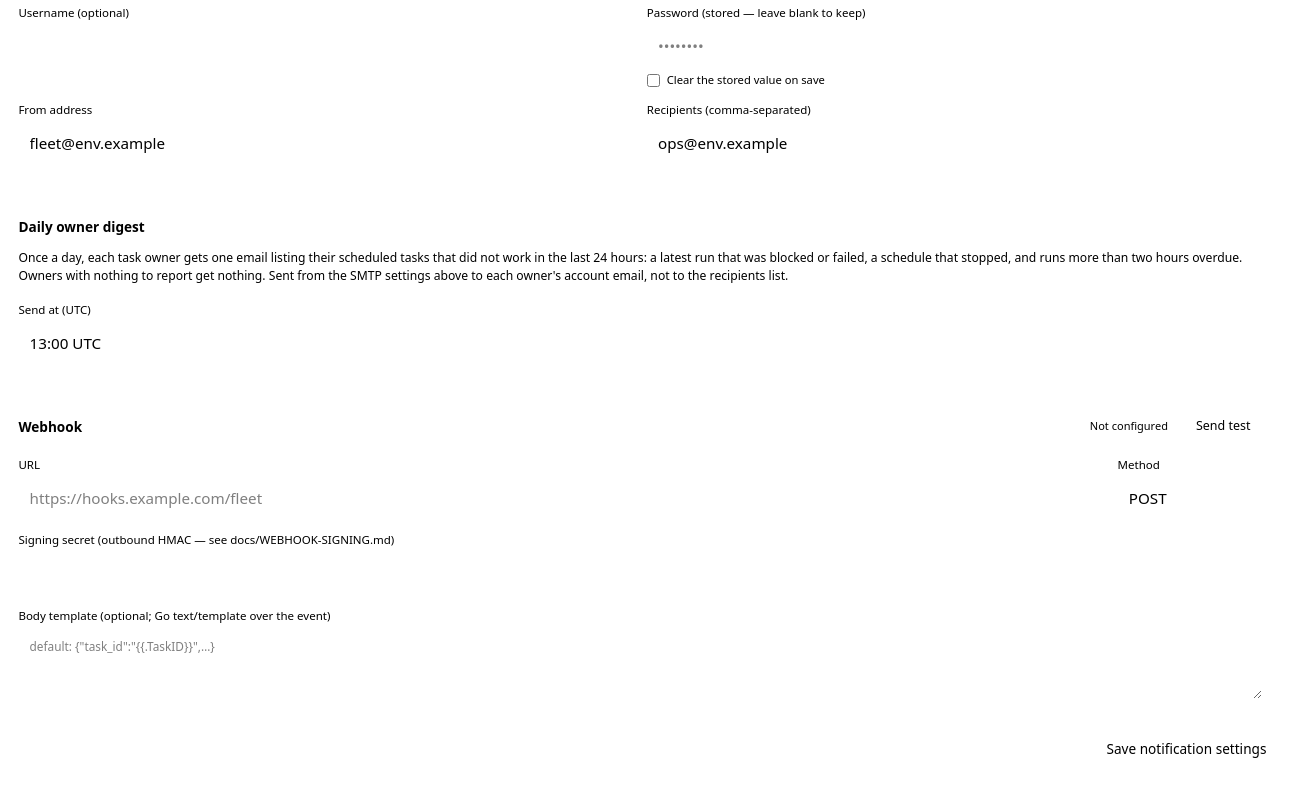
Test: NotificationsAdminPage › disables Send test while the form is dirty and says why, re-enabling after save
(page scrolled)
Type "https://hooks.example.com/x" into the field with test id "notify-webhook-url" at (561, 498), box [18,478,1104,519]
(page scrolled)
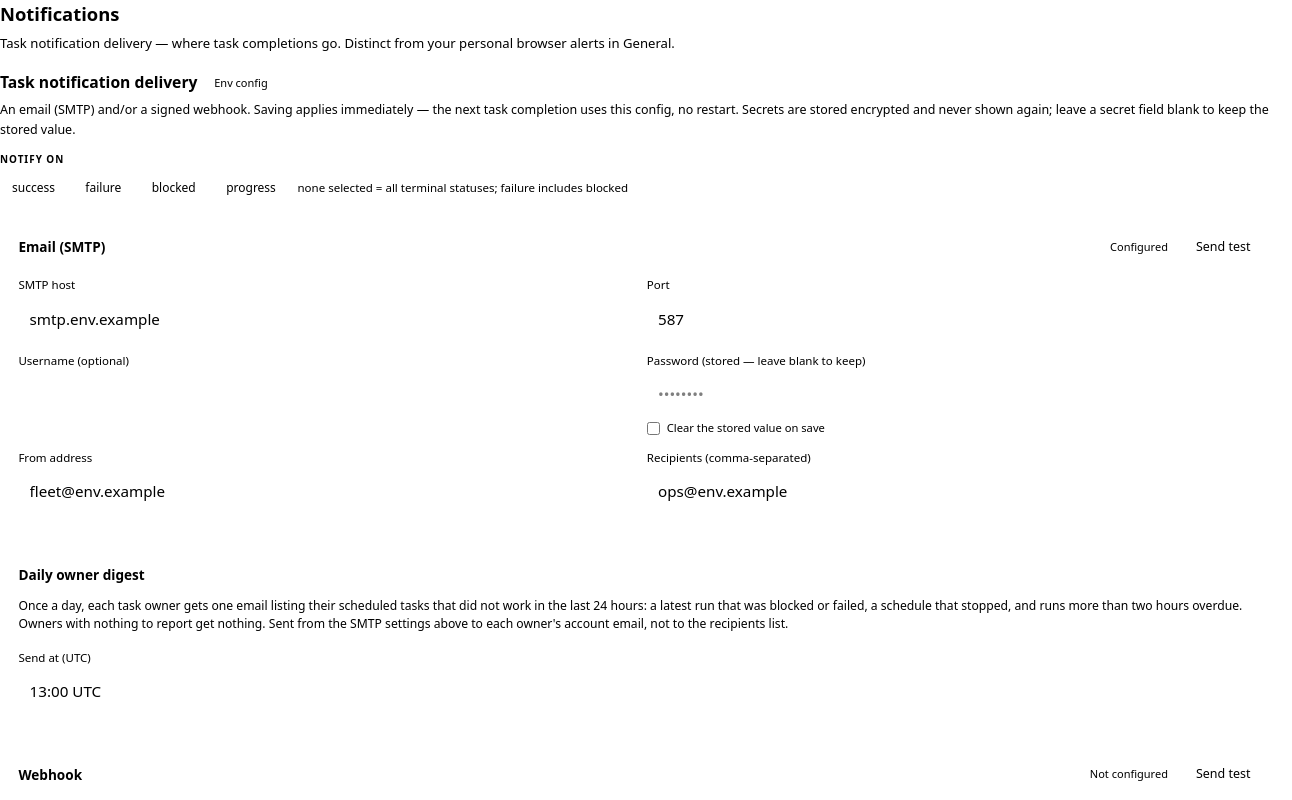
Result: the button with test id "notify-test-email" is disabled
Result: the button with test id "notify-test-webhook" is disabled at [1185,761,1262,789]
Click the button with test id "notify-test-email" at (1223, 247), box [1185,233,1262,262]
(page scrolled)
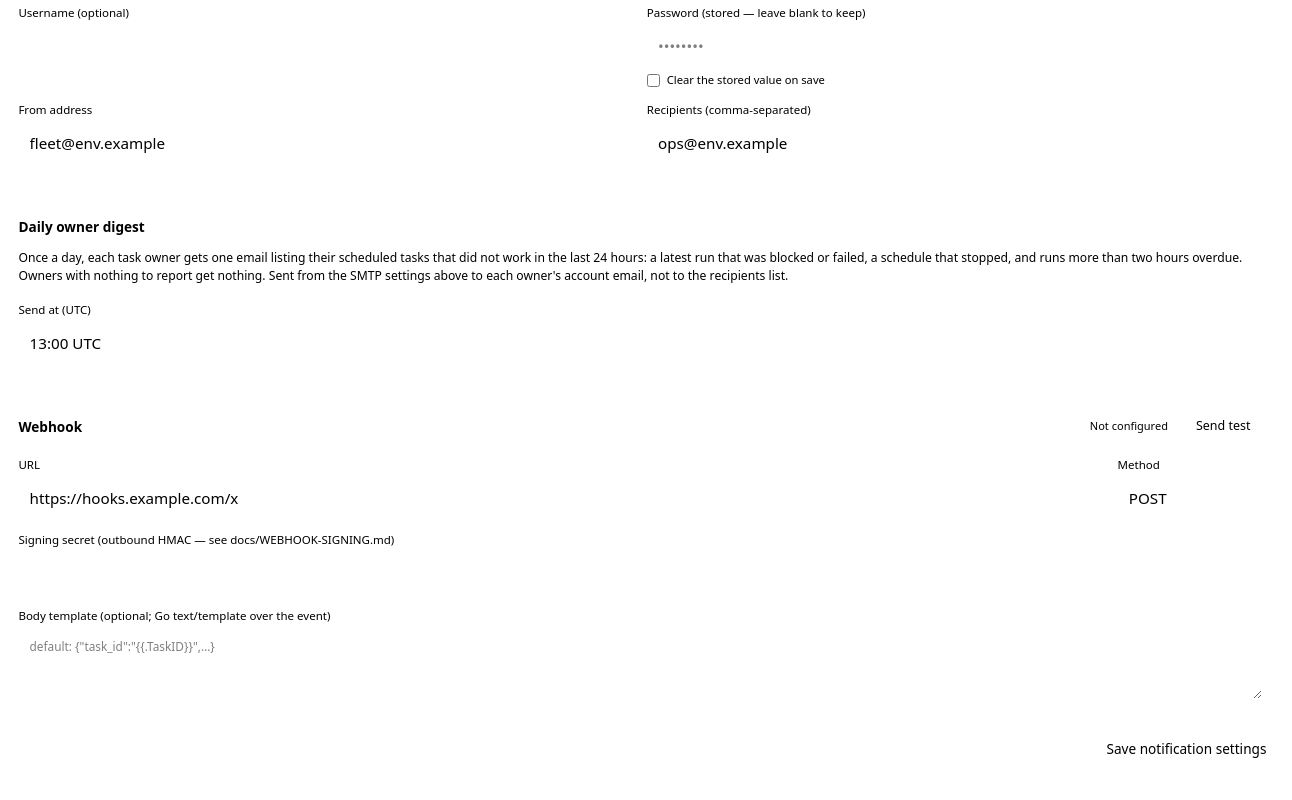
Click the button with test id "notify-save" at (1186, 750), box [1093,732,1280,767]
(page scrolled)
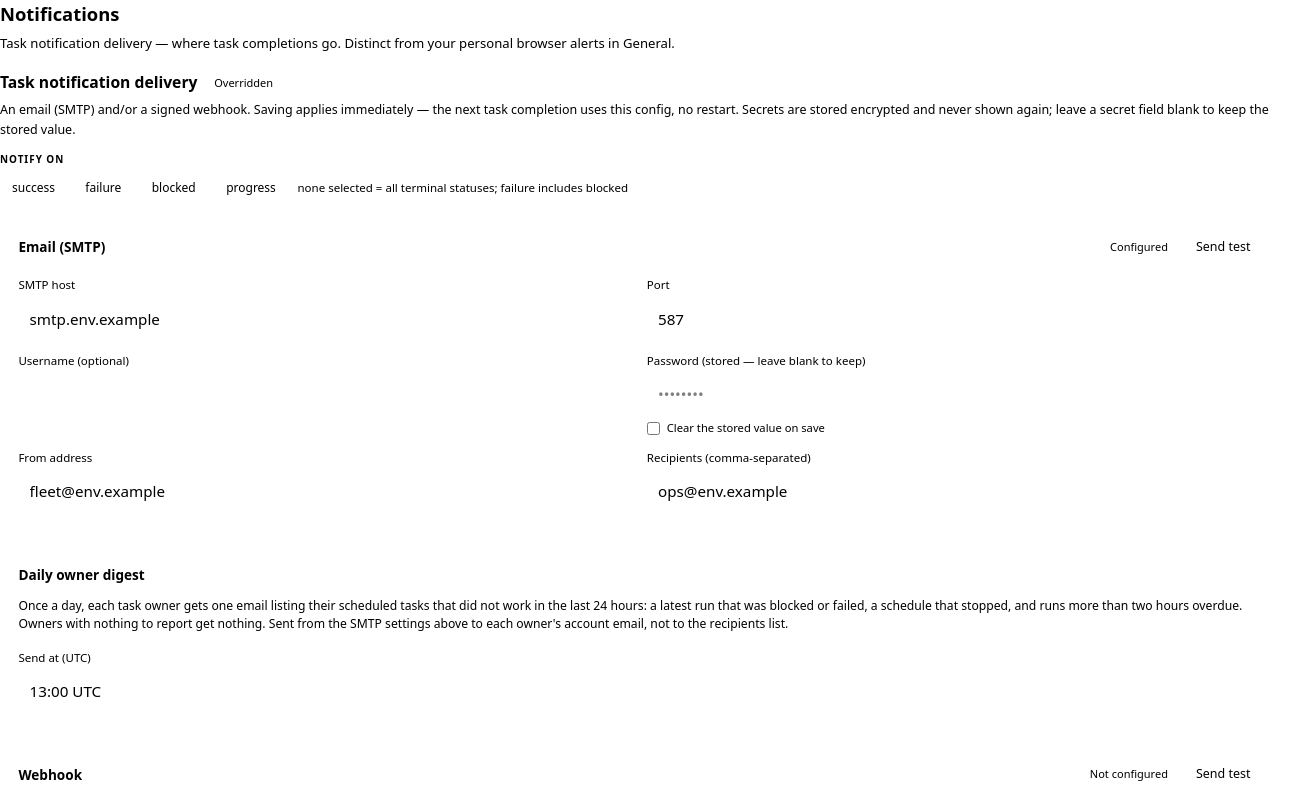
Result: the button with test id "notify-test-email" is enabled at [1185,233,1262,262]
